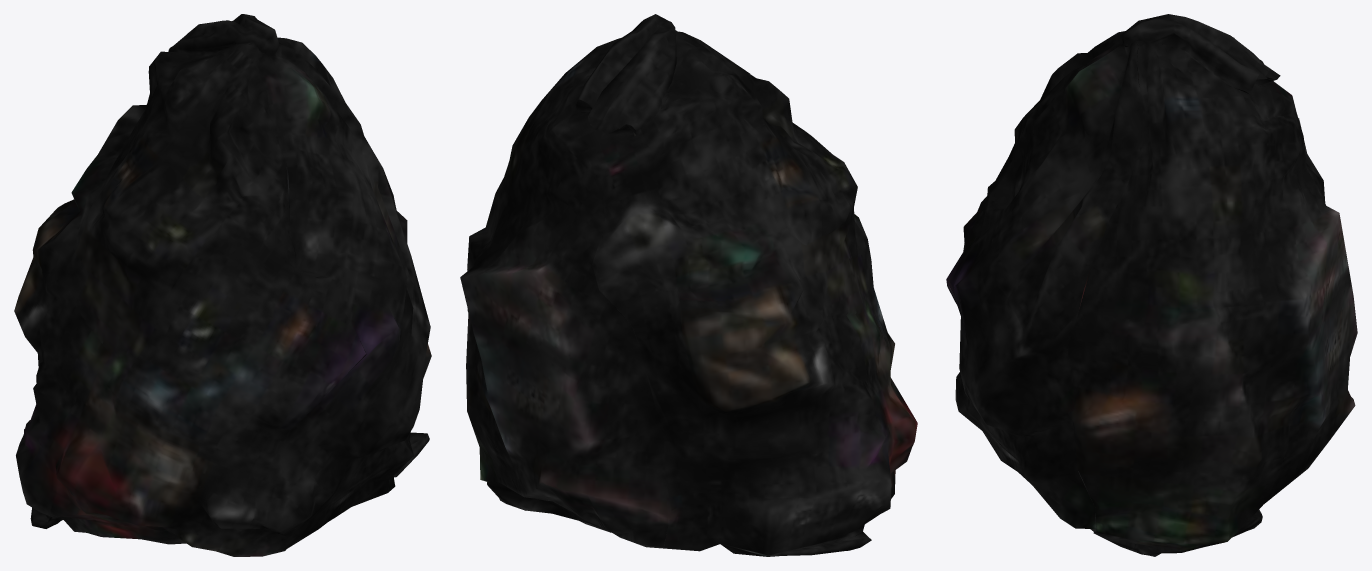
Rendered from trashbag.glb.
The picture shows the model from 3 angles, left to right: view 1: azimuth 30°, elevation 25°; view 2: azimuth 150°, elevation 25°; view 3: azimuth 270°, elevation 25°; orthographic projection. The views are drawn at different scales.
Parts seen in each view (by area): view 1: trashbag; view 2: trashbag; view 3: trashbag.
Part boxes in pixels (box(x1,y1,x2,y2)): trashbag: box(14, 14, 431, 556); trashbag: box(460, 14, 917, 556); trashbag: box(946, 14, 1357, 556).
Bounding box in the file's own units: 0.5246 × 0.5747 × 0.4634.
1 material, 1 textured.
